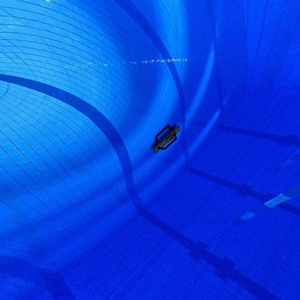submarine: (140, 121, 185, 155)
